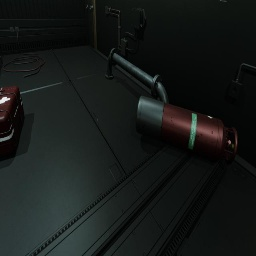FireExtinguisher ]: (0, 57, 3, 64)
FirstAidBox ,: (0, 86, 24, 157)
NitrogenTank ,: (136, 96, 238, 165)
